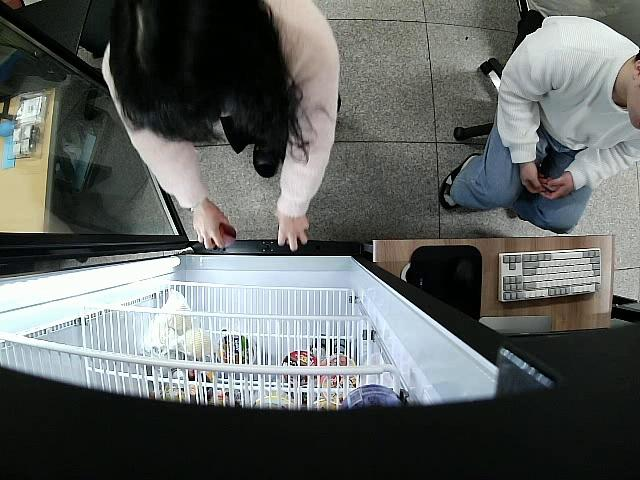00_hand: (194, 203, 232, 251), (273, 207, 311, 254)
11_cocaColaZero: (210, 224, 237, 249)
